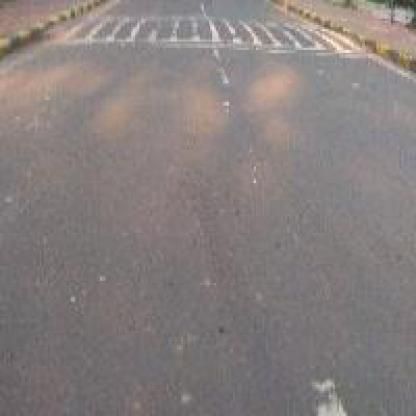Speed Bump: (44, 19, 362, 52)
